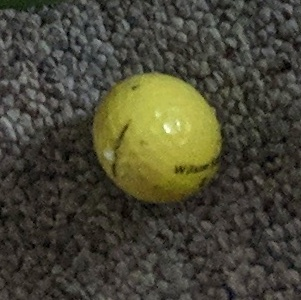ball: (98, 72, 223, 210)
